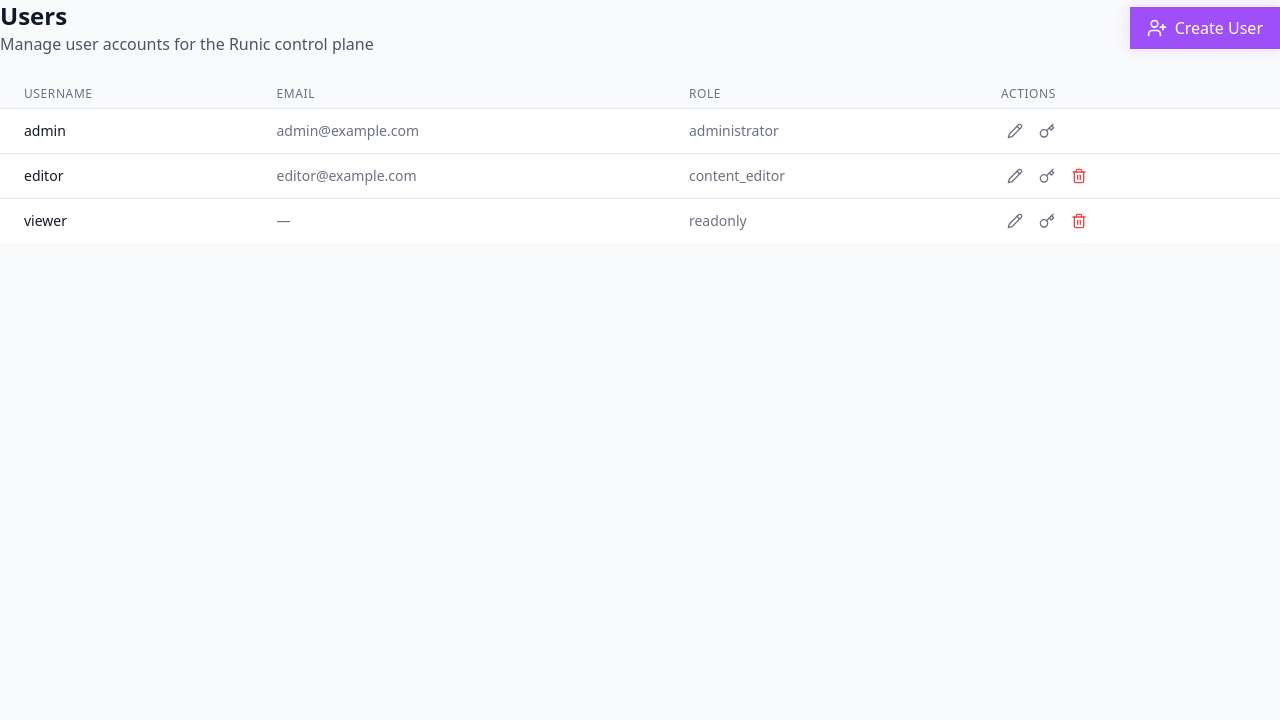
Test case: Users Page › opens create user modal
Click the button "Create User".
click(1205, 28)  # box x1=1130 y1=7 x2=1279 y2=49
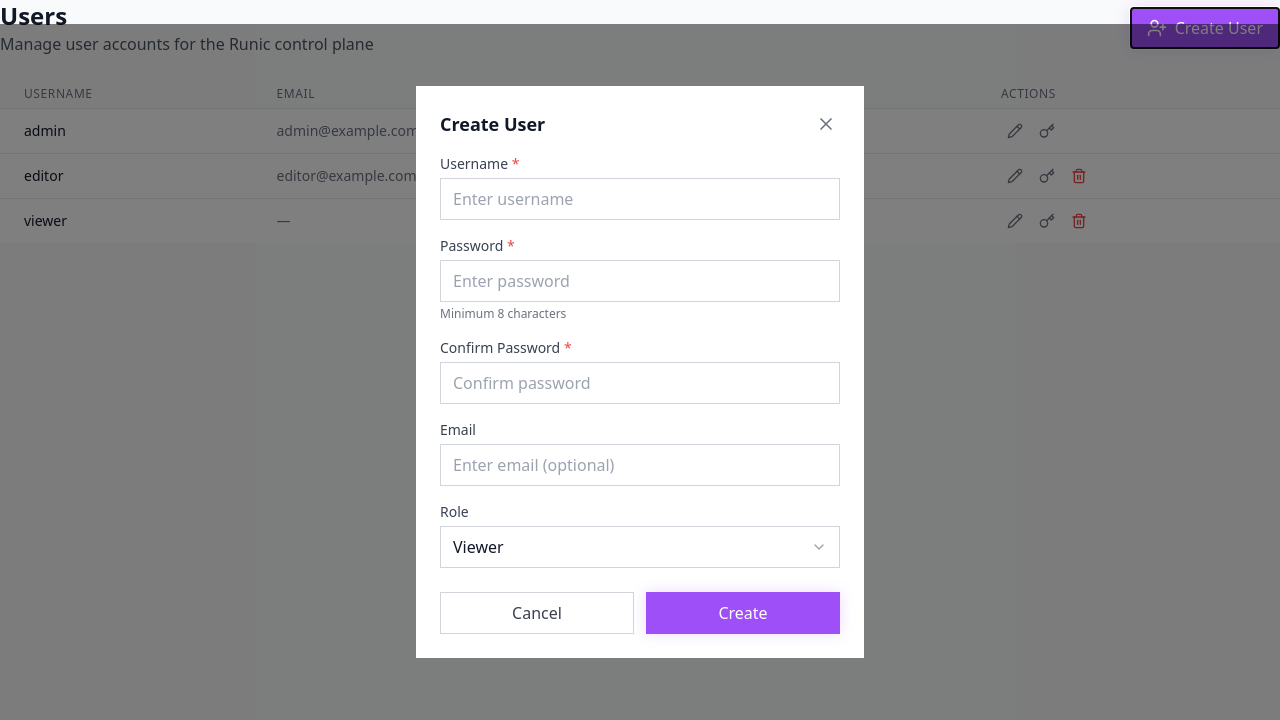
Check: the field with id "username" is shown, box x1=440 y1=178 x2=840 y2=220
Check: the password field labelled "Password *" is shown, box x1=440 y1=260 x2=840 y2=302
Check: the password field with id "confirmPassword" is shown, box x1=440 y1=362 x2=840 y2=404
